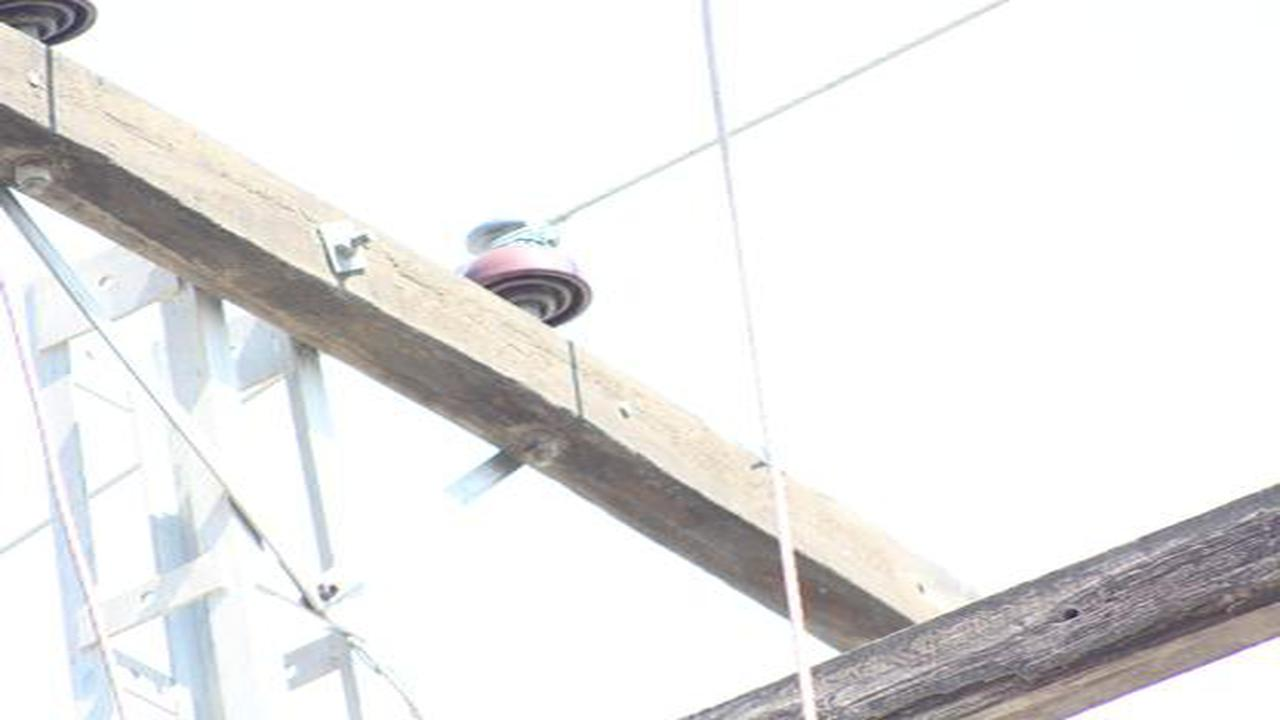insulator_pin: (463, 216, 597, 332)
